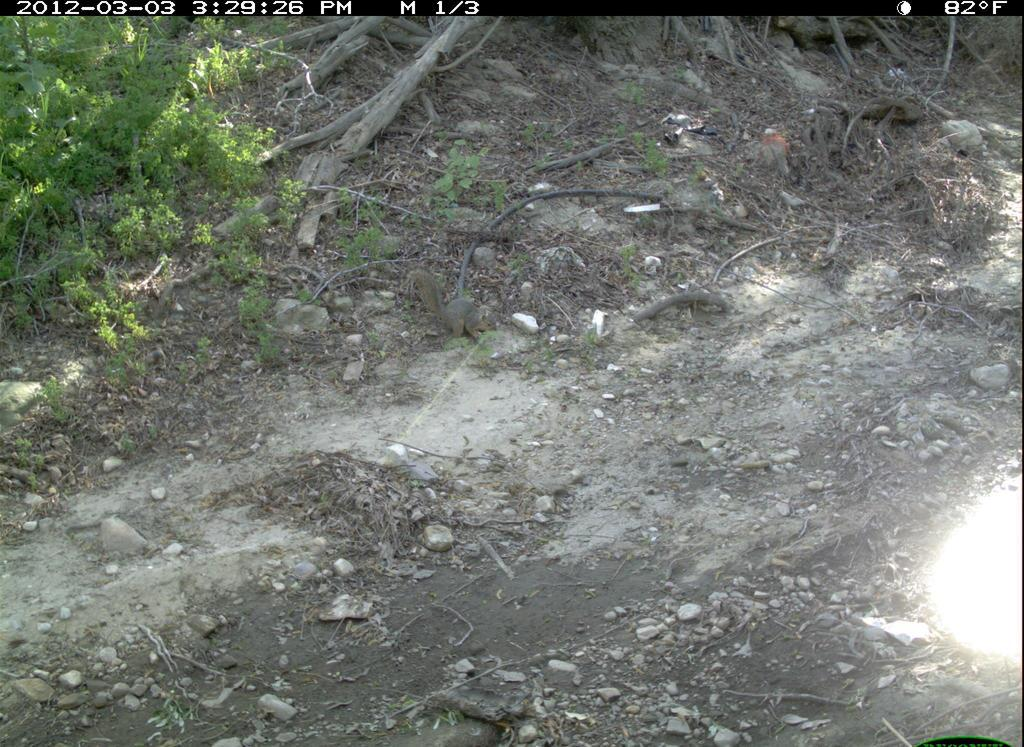squirrel: (393, 259, 497, 356)
